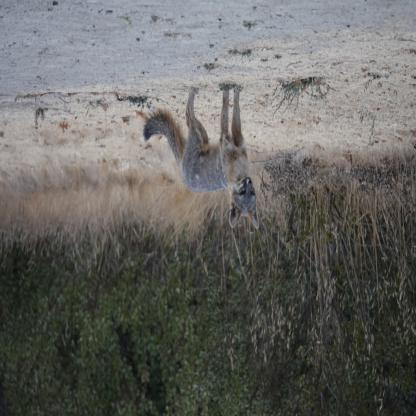zorro: (140, 83, 262, 230)
